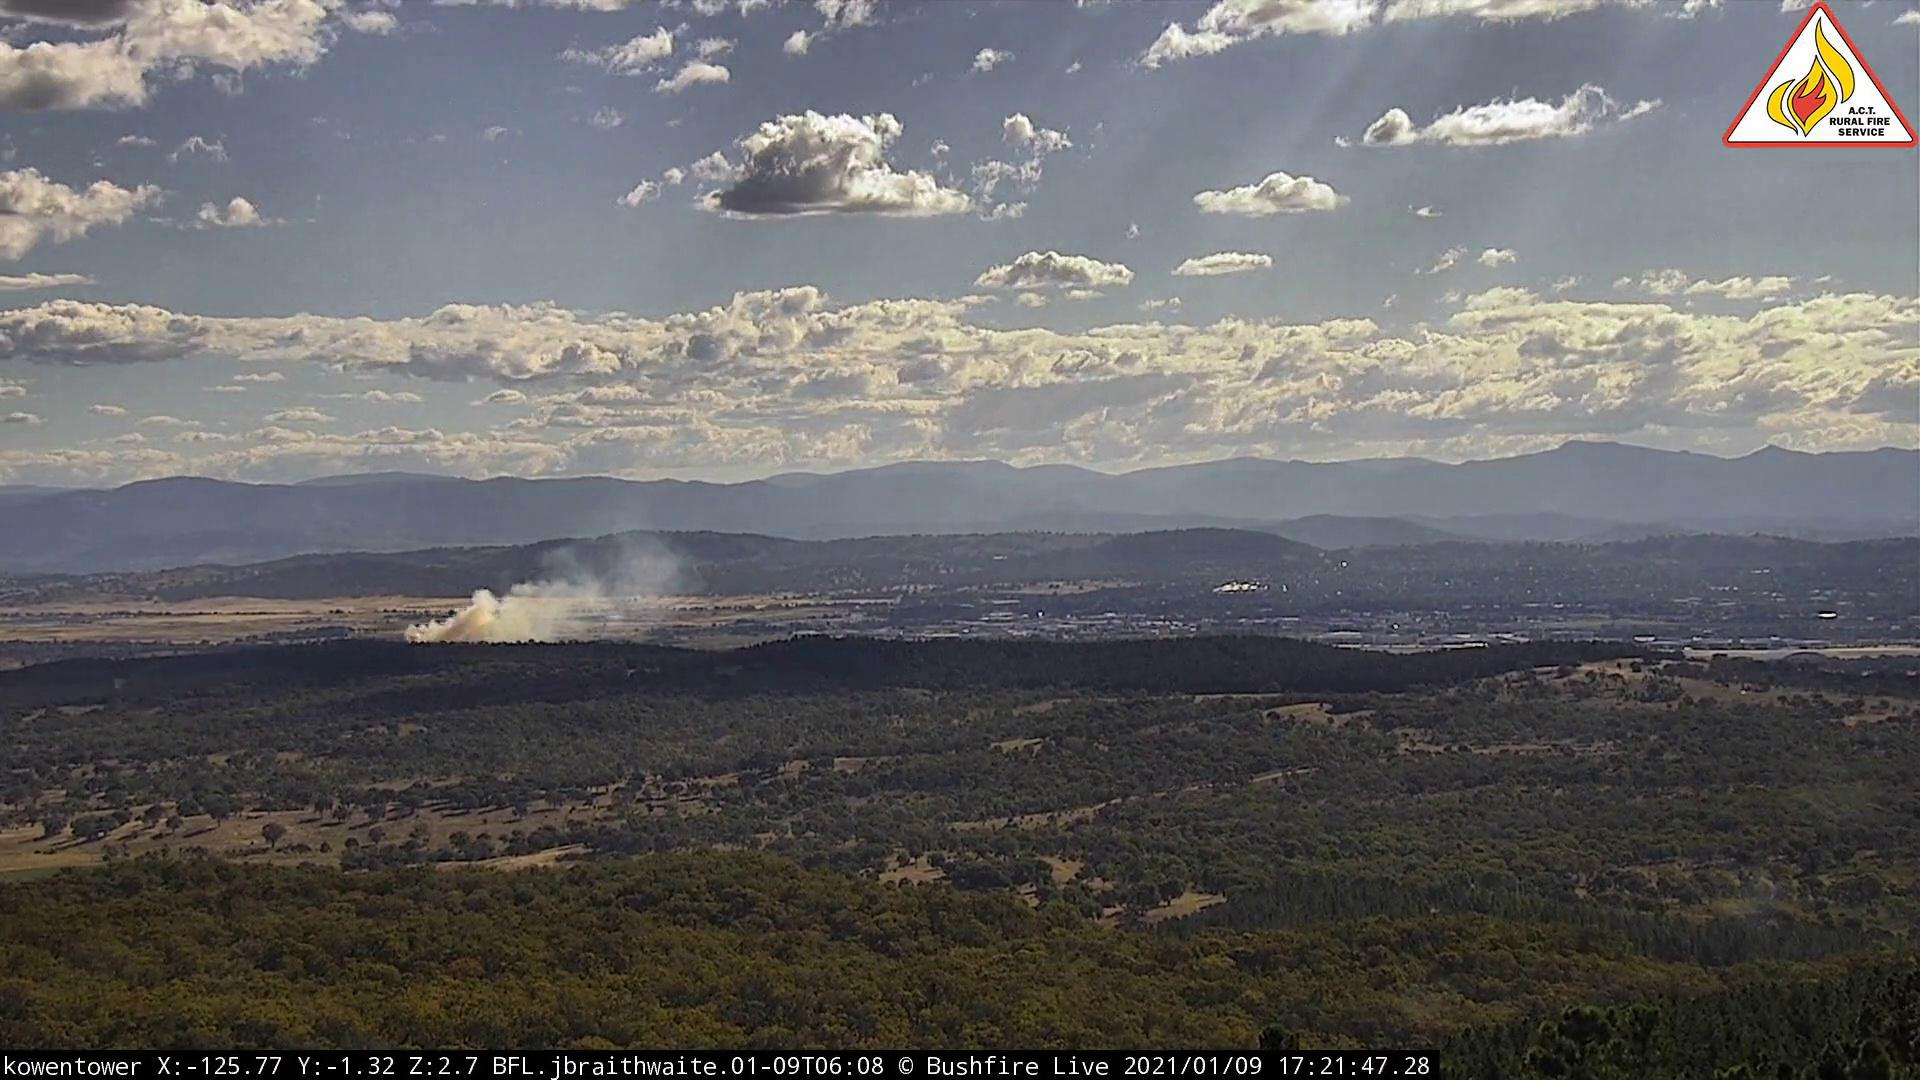Smoke: (397, 508, 713, 655)
